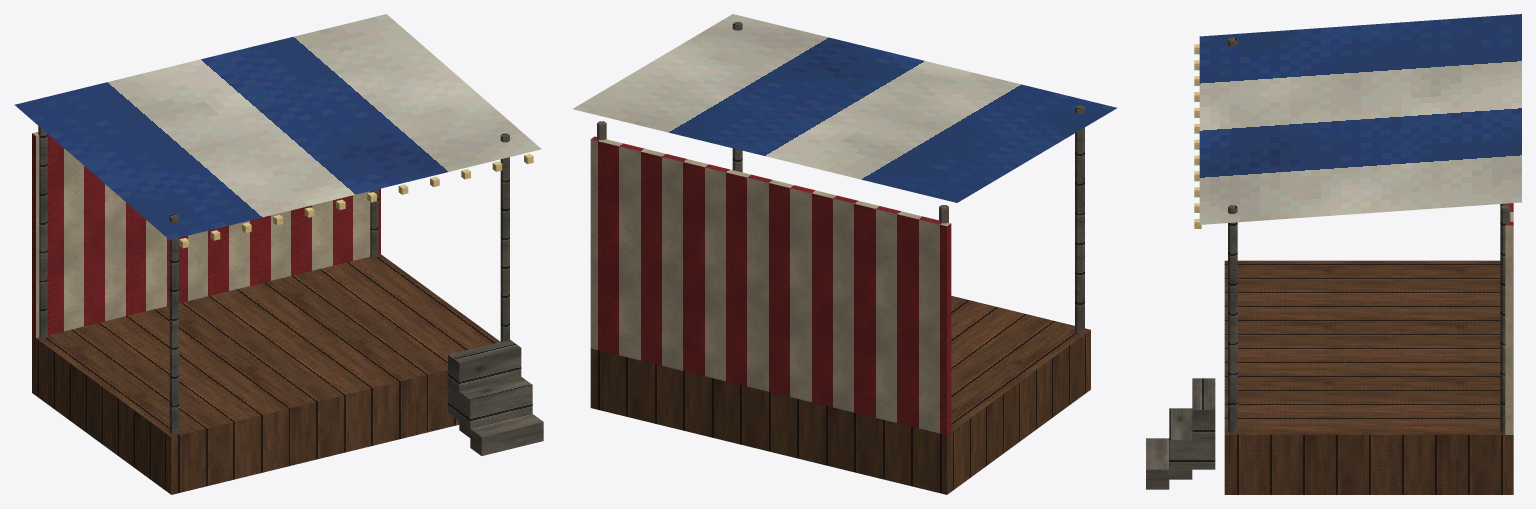
Rendered from escenario.obj.
3 renders of one model, left to right at view 1: azimuth 30°, elevation 25°; view 2: azimuth 150°, elevation 25°; view 3: azimuth 270°, elevation 25°, orthographic. The views are drawn at different scales.
Visible parts, largest first — view 1: escenario; view 2: escenario; view 3: escenario.
Part boxes in pixels (bbox=[...]): escenario: bbox=[14, 14, 543, 494]; escenario: bbox=[572, 14, 1116, 494]; escenario: bbox=[1146, 14, 1521, 494].
Bounding box in the file's own units: 5.4 × 4 × 4.55.
5 materials, 5 textured.
